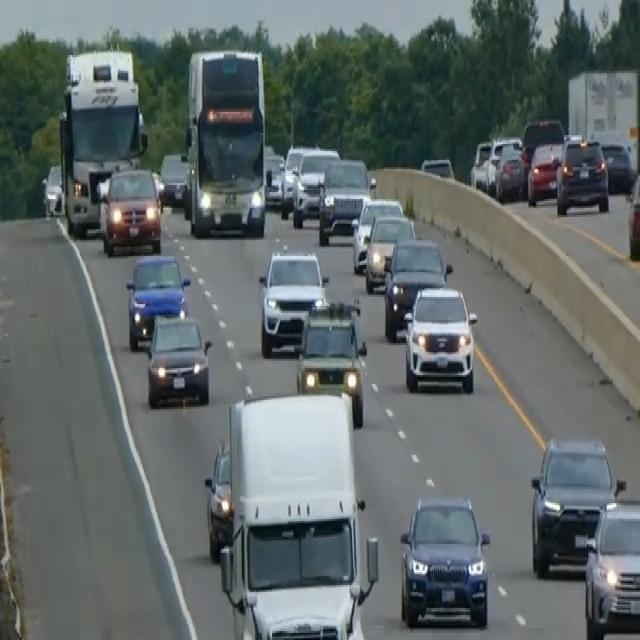bus: (57, 46, 148, 236), (183, 46, 267, 238)
car: (529, 434, 623, 578), (398, 491, 491, 629), (402, 283, 478, 393), (583, 494, 639, 638), (257, 247, 328, 357), (382, 234, 451, 340), (125, 251, 190, 350), (145, 311, 212, 407), (97, 165, 162, 256), (317, 155, 376, 245), (555, 133, 609, 215), (364, 212, 416, 294), (351, 194, 403, 272), (291, 146, 339, 228), (203, 437, 233, 562), (590, 130, 634, 192), (279, 142, 310, 217), (526, 140, 562, 204), (492, 137, 524, 201), (159, 150, 188, 207), (469, 137, 494, 192), (41, 162, 64, 217), (626, 167, 639, 261), (264, 151, 285, 206), (420, 154, 454, 180)
jeep: (295, 295, 368, 427)
lorry: (217, 388, 379, 638)
